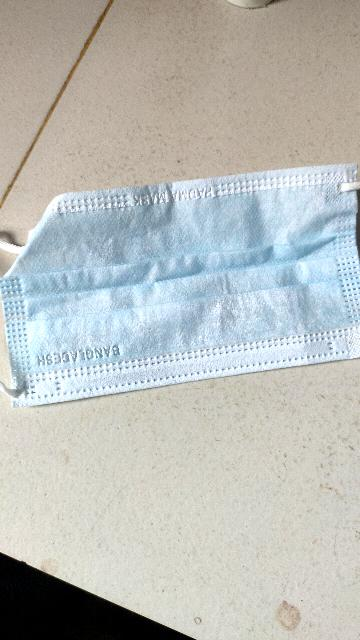mask: (3, 154, 360, 427)
